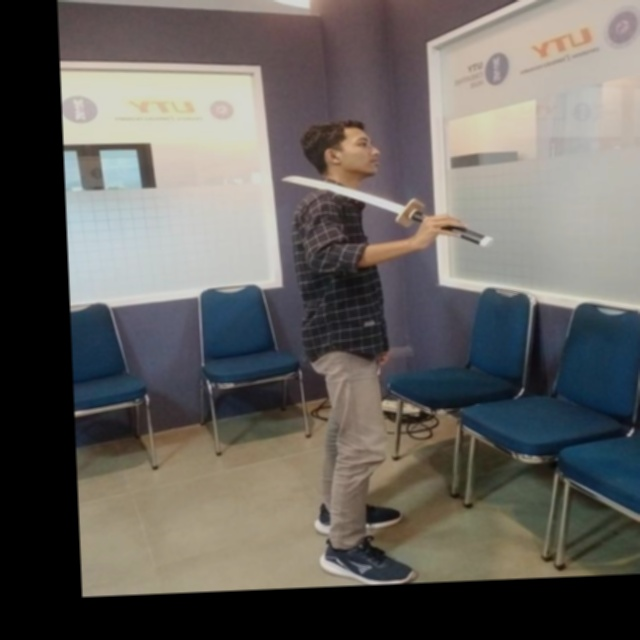Sharp-Object: (281, 157, 496, 262)
